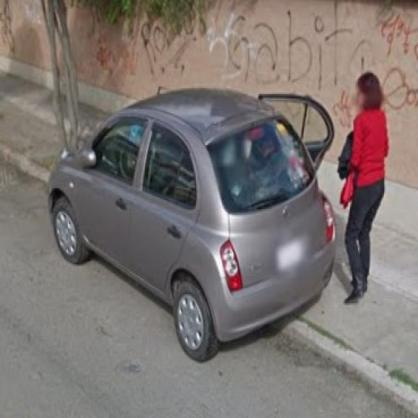car: (49, 89, 340, 363)
